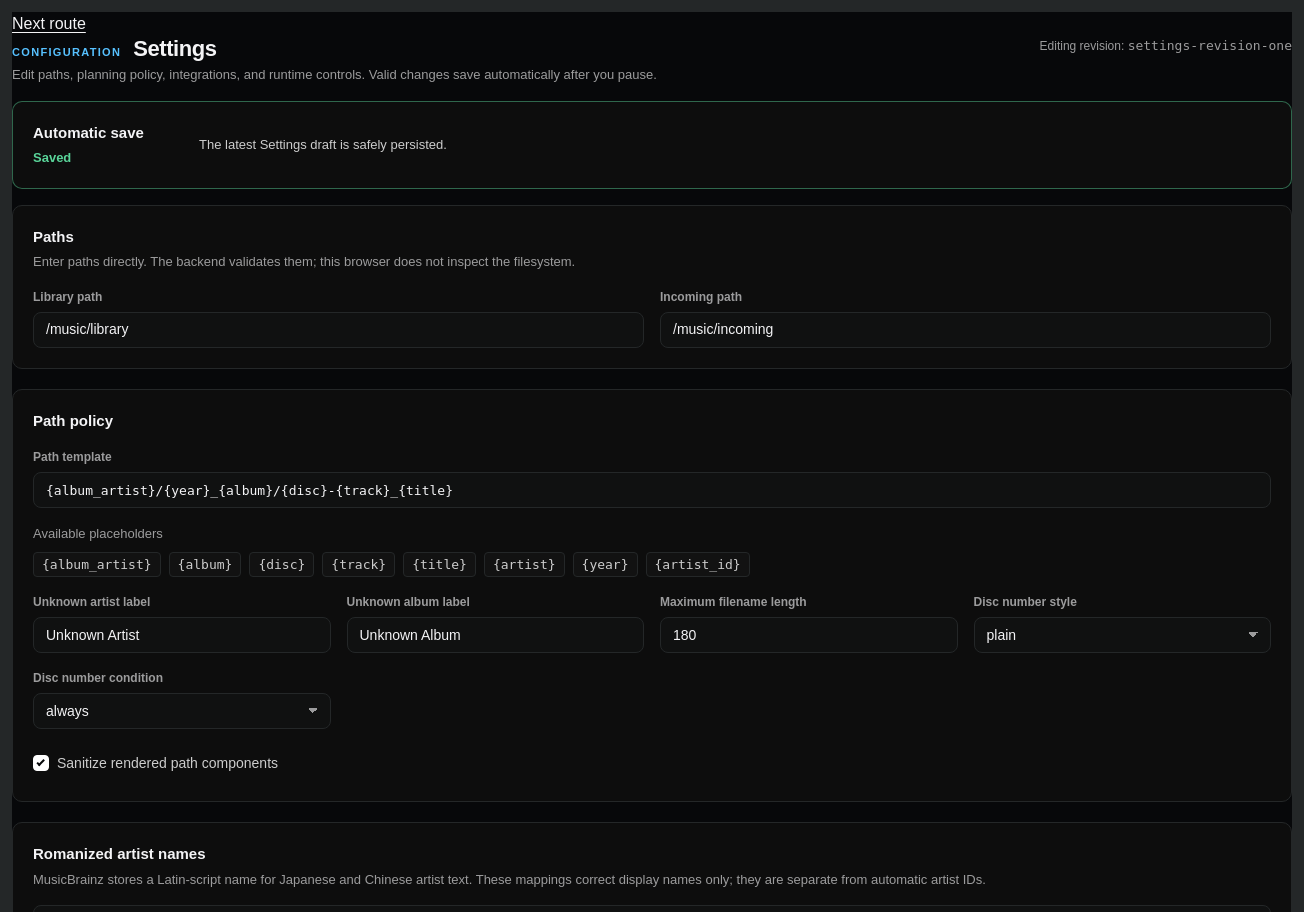
Settings route › coalesces edits made during an in-flight save without overwriting them
The image size is (1304, 912).
Replace the text in the field labelled "Library path" with "/music/first-candidate" at (338, 330), box top-left (33, 312), bottom-right (644, 348)
Wait 600 ms
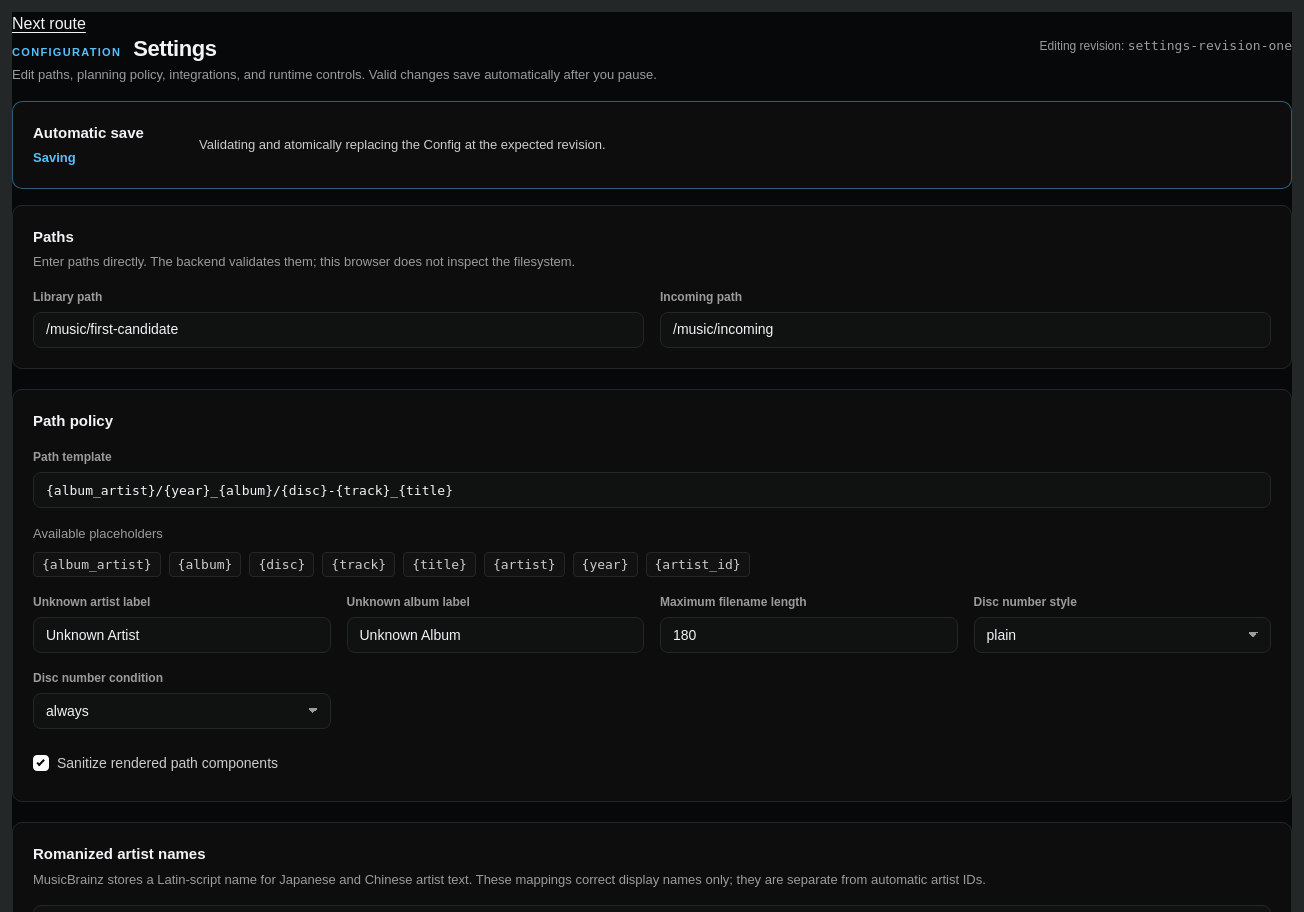
Expected: the message "Automatic save" shows "Saving", top-left (33, 150), bottom-right (76, 165)
Replace the text in the field labelled "Library path" with "/music/latest-candidate" at (338, 330), box top-left (33, 312), bottom-right (644, 348)
Wait 600 ms
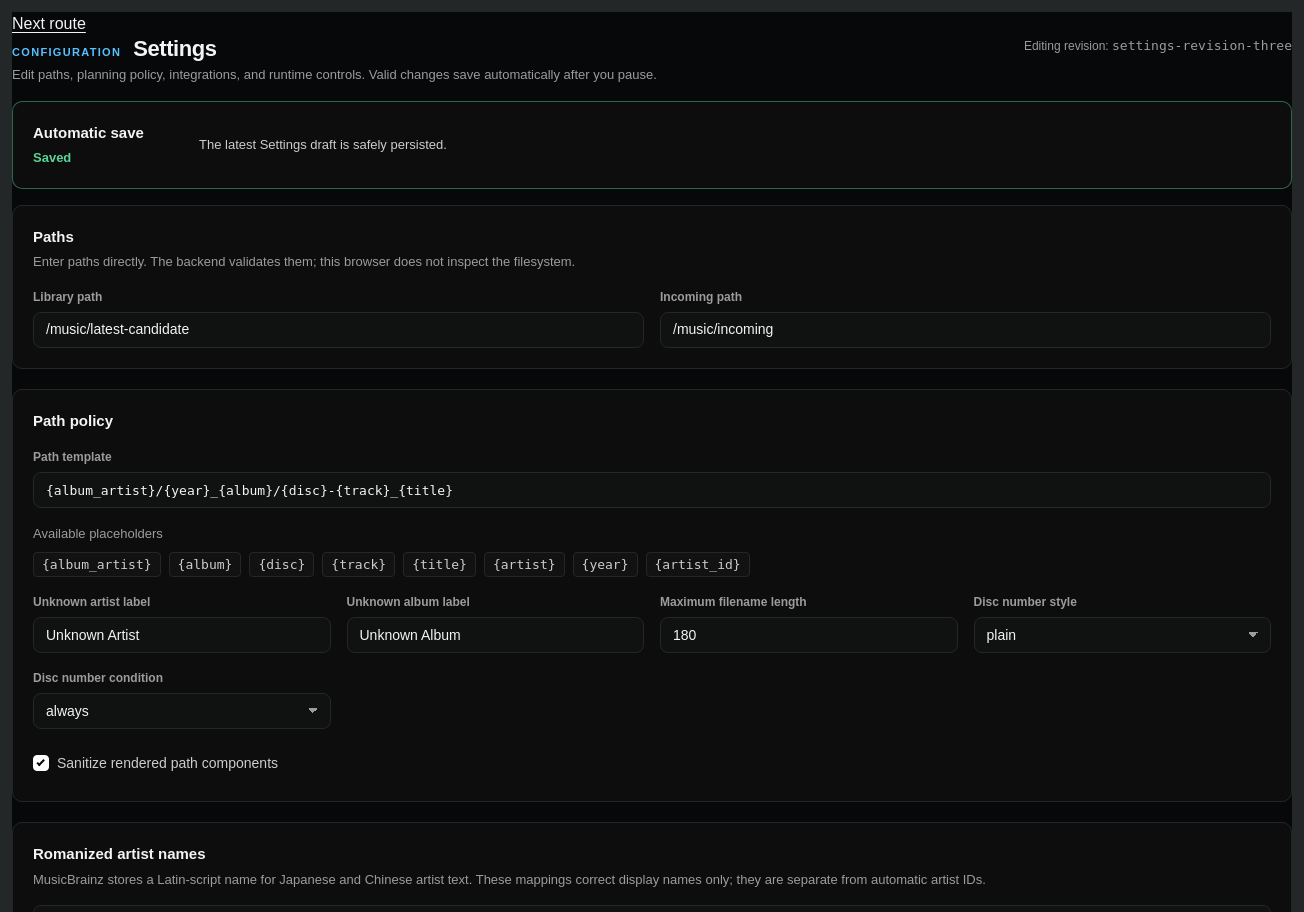
Expected: the message "Automatic save" shows "Saved", top-left (33, 150), bottom-right (71, 165)
